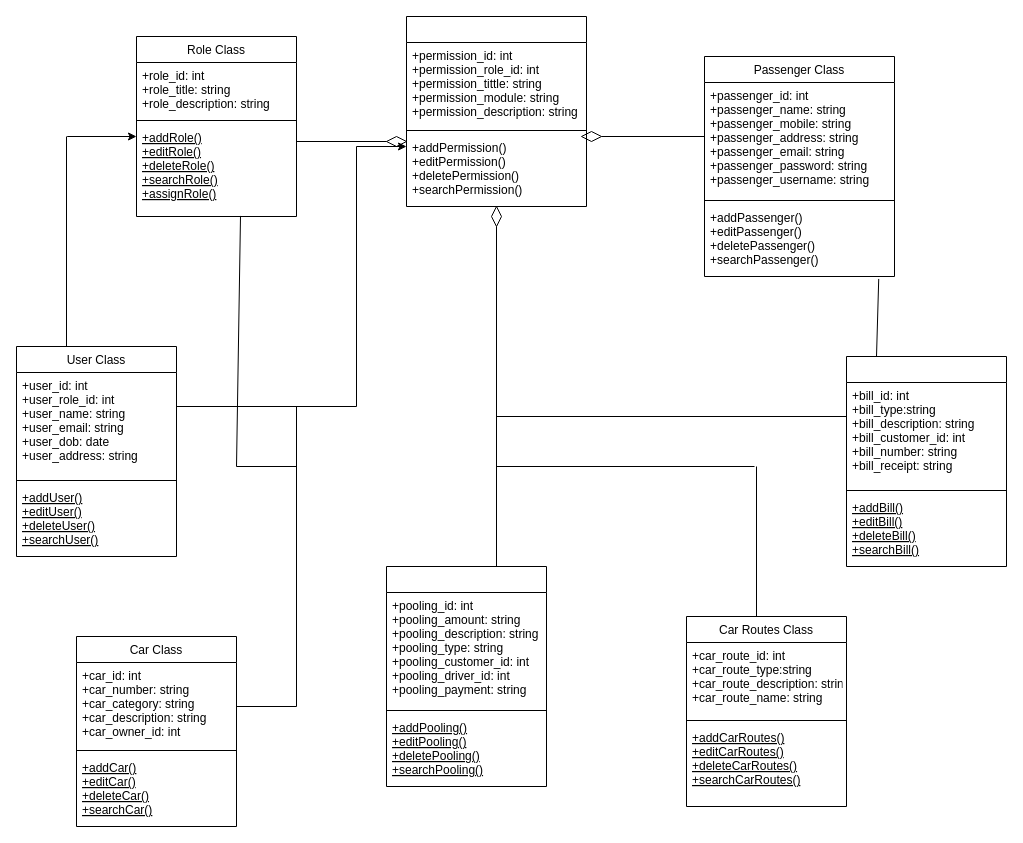
Image size: 1023x843. Some labels were removed from this diagram. Here are the shapes that lost their labels. From the top down, the box of each, then its label:
(406, 16, 586, 206): Permission Class
(846, 356, 1006, 566): Bill Class
(386, 566, 546, 786): Pooling Class
